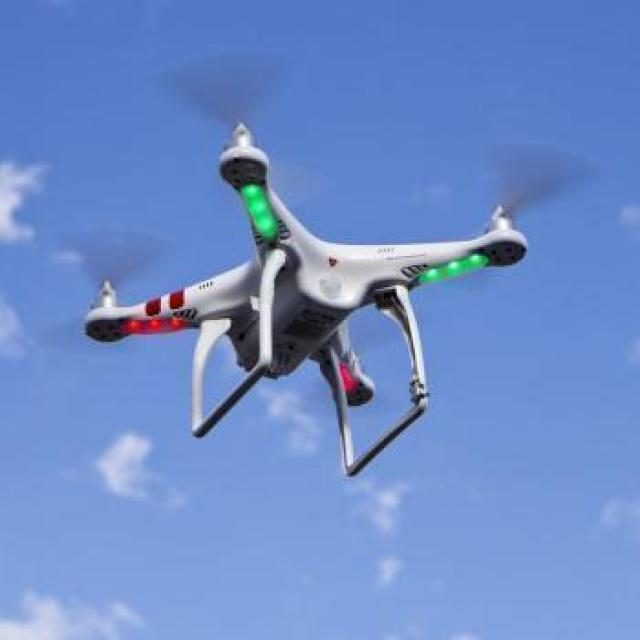drone: (82, 128, 530, 479)
